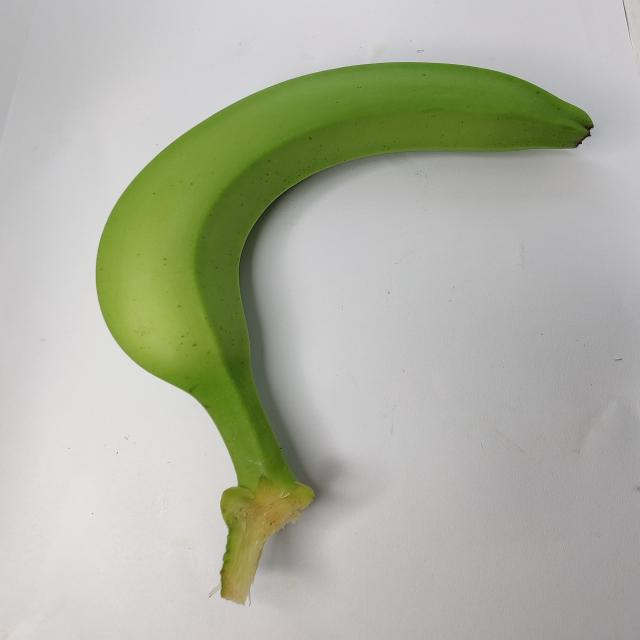Raw: (64, 39, 608, 625)
